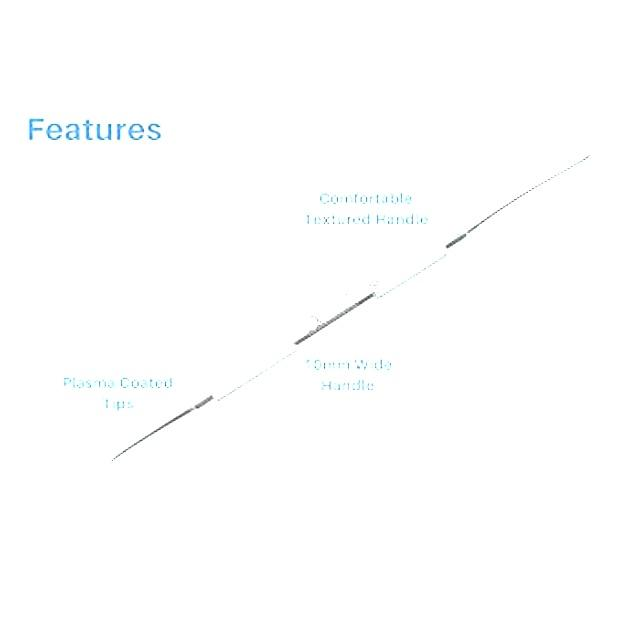elevador: (92, 148, 593, 472)
